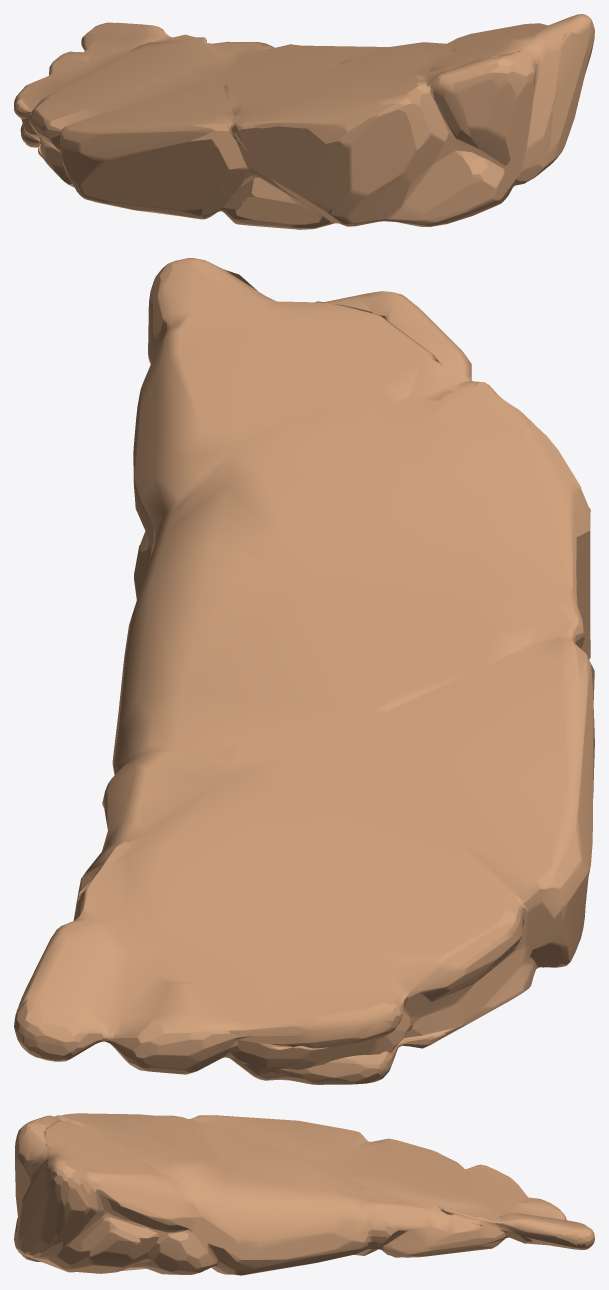
3 views of the same model, one above another, from view 1: azimuth 30°, elevation 25°; view 2: azimuth 150°, elevation 25°; view 3: azimuth 270°, elevation 25° (orthographic). The views are drawn at different scales.
Visible parts, largest first — view 1: Mesh_29_LOD0; view 2: Mesh_29_LOD0; view 3: Mesh_29_LOD0.
Part boxes in pixels (x1,y1,x2,y2): Mesh_29_LOD0: [14, 14, 594, 229]; Mesh_29_LOD0: [14, 258, 594, 1084]; Mesh_29_LOD0: [14, 1113, 594, 1275].
Size of what is drawn, in the model's own units: 2451 by 1323 by 3471.
